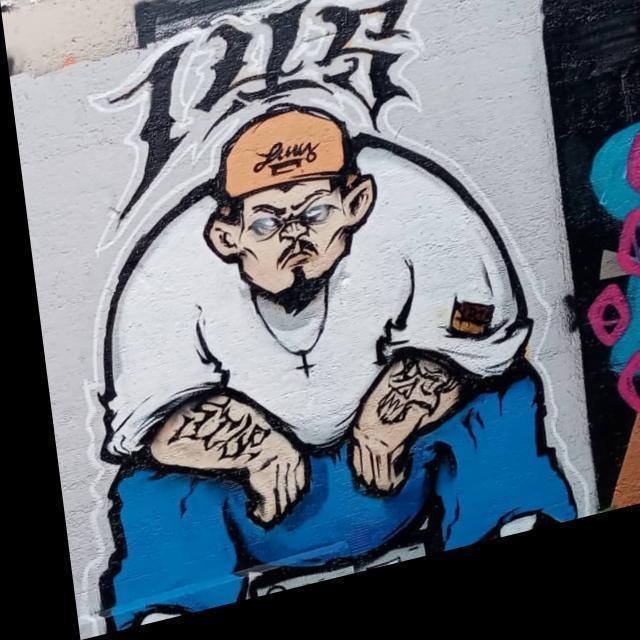nonspitting: (112, 0, 413, 221)
spitting: (96, 100, 579, 628)
